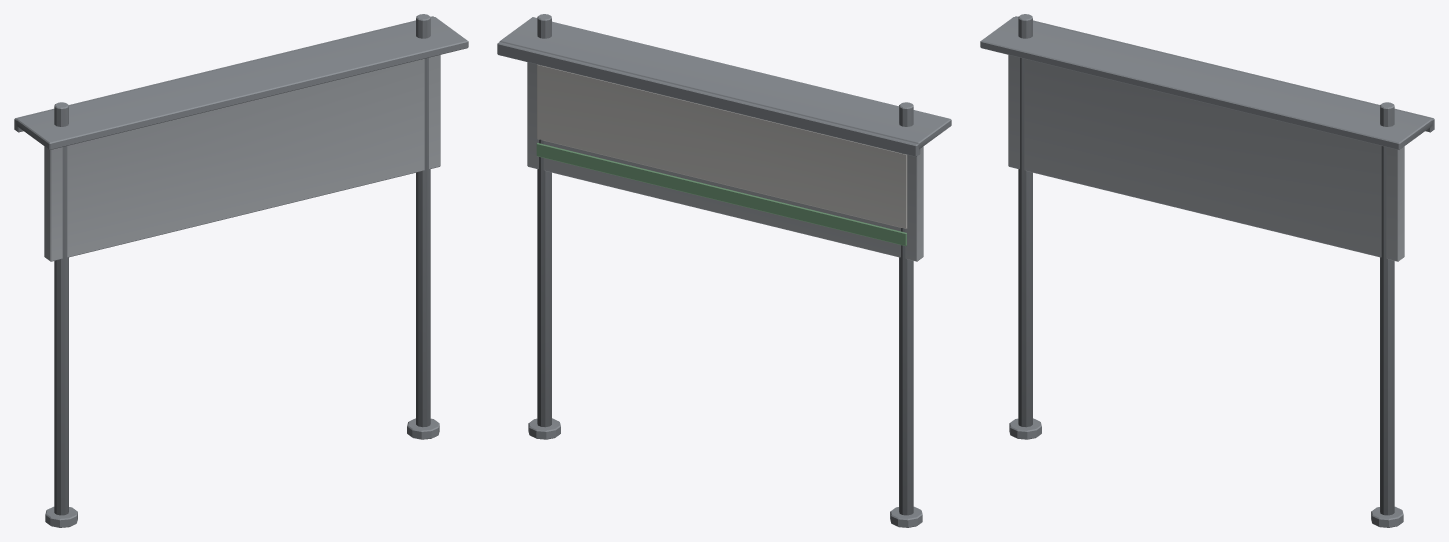
Rendered from sign_station.glb.
The picture shows the model from 3 angles, left to right: view 1: azimuth 30°, elevation 25°; view 2: azimuth 150°, elevation 25°; view 3: azimuth 330°, elevation 25°; orthographic projection.
Size of the model in its own units: 2.9 by 2.75 by 0.425.
